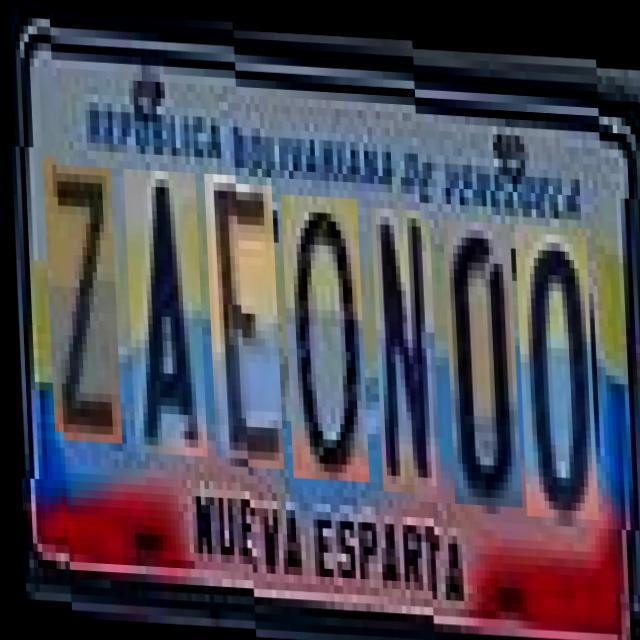0: (440, 198, 517, 486)
A: (122, 168, 203, 454)
E: (202, 171, 280, 458)
N: (368, 195, 436, 481)
O: (279, 183, 365, 470), (512, 202, 594, 496)
Z: (42, 163, 118, 442)
